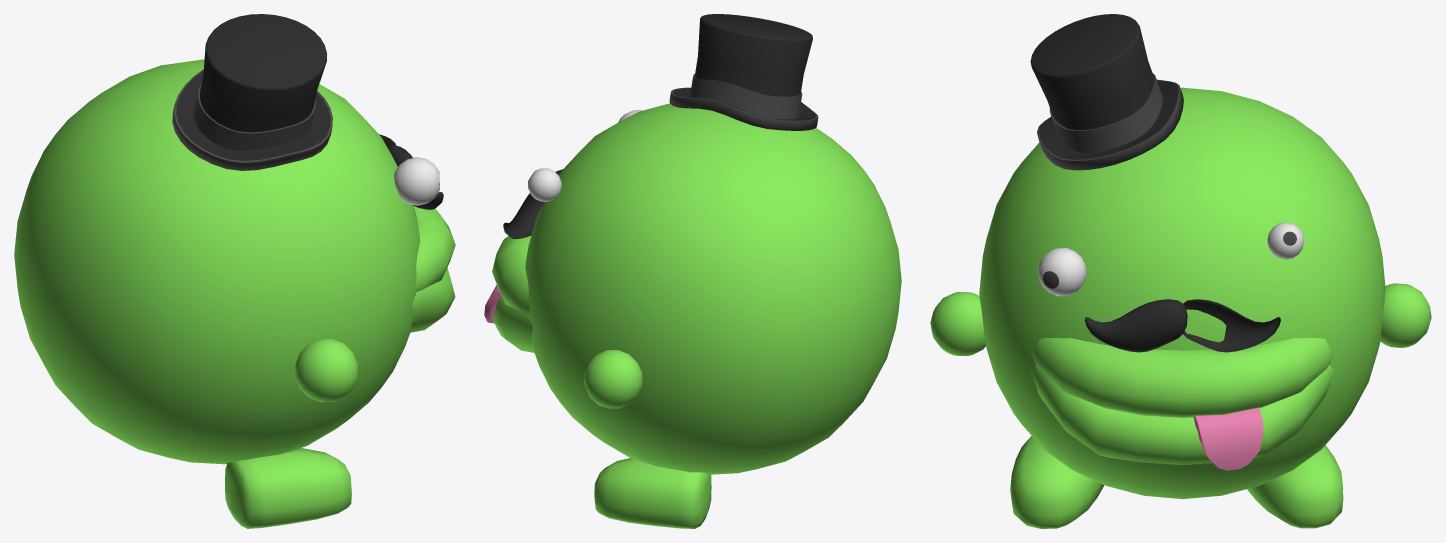
File: scene_g323bXiwhY.glb
3 views of the same model, side by side, from view 1: azimuth 30°, elevation 25°; view 2: azimuth 150°, elevation 25°; view 3: azimuth 270°, elevation 25° (orthographic). The views are drawn at different scales.
Visible parts, largest first — view 1: Pickelo_Cube; view 2: Pickelo_Cube; view 3: Pickelo_Cube.
Boxes of the visible parts, x1,y1,x2,y2 form: Pickelo_Cube: (14, 14, 455, 528); Pickelo_Cube: (484, 14, 901, 528); Pickelo_Cube: (930, 14, 1431, 528).
Bounding box in the file's own units: 0.8794 × 0.9994 × 0.9537.
